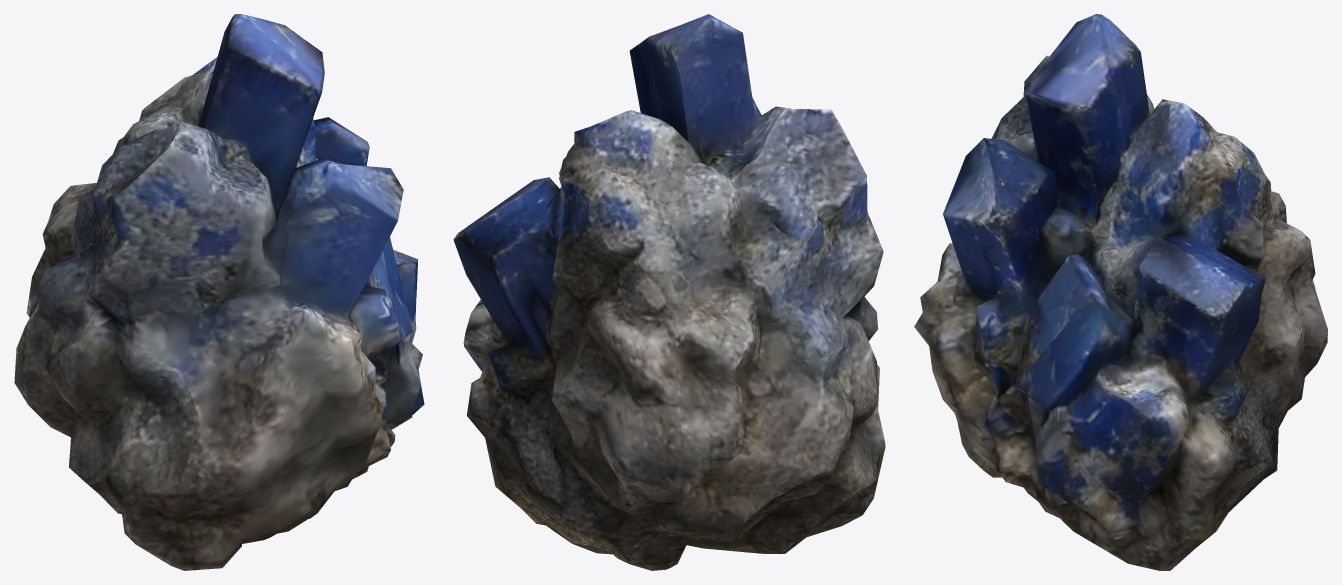
The model's file is ore.glb.
3 views of the same model, side by side, from view 1: azimuth 30°, elevation 25°; view 2: azimuth 150°, elevation 25°; view 3: azimuth 270°, elevation 25° (orthographic). The views are drawn at different scales.
Parts seen in each view (by area): view 1: crystal_blue; view 2: crystal_blue; view 3: crystal_blue.
Part boxes in pixels (x1,y1,x2,y2): crystal_blue: (14,14,424,570); crystal_blue: (453,14,885,570); crystal_blue: (914,14,1327,570).
Bounding box in the file's own units: 0.2197 × 0.2801 × 0.2116.
1 material, 1 textured.
